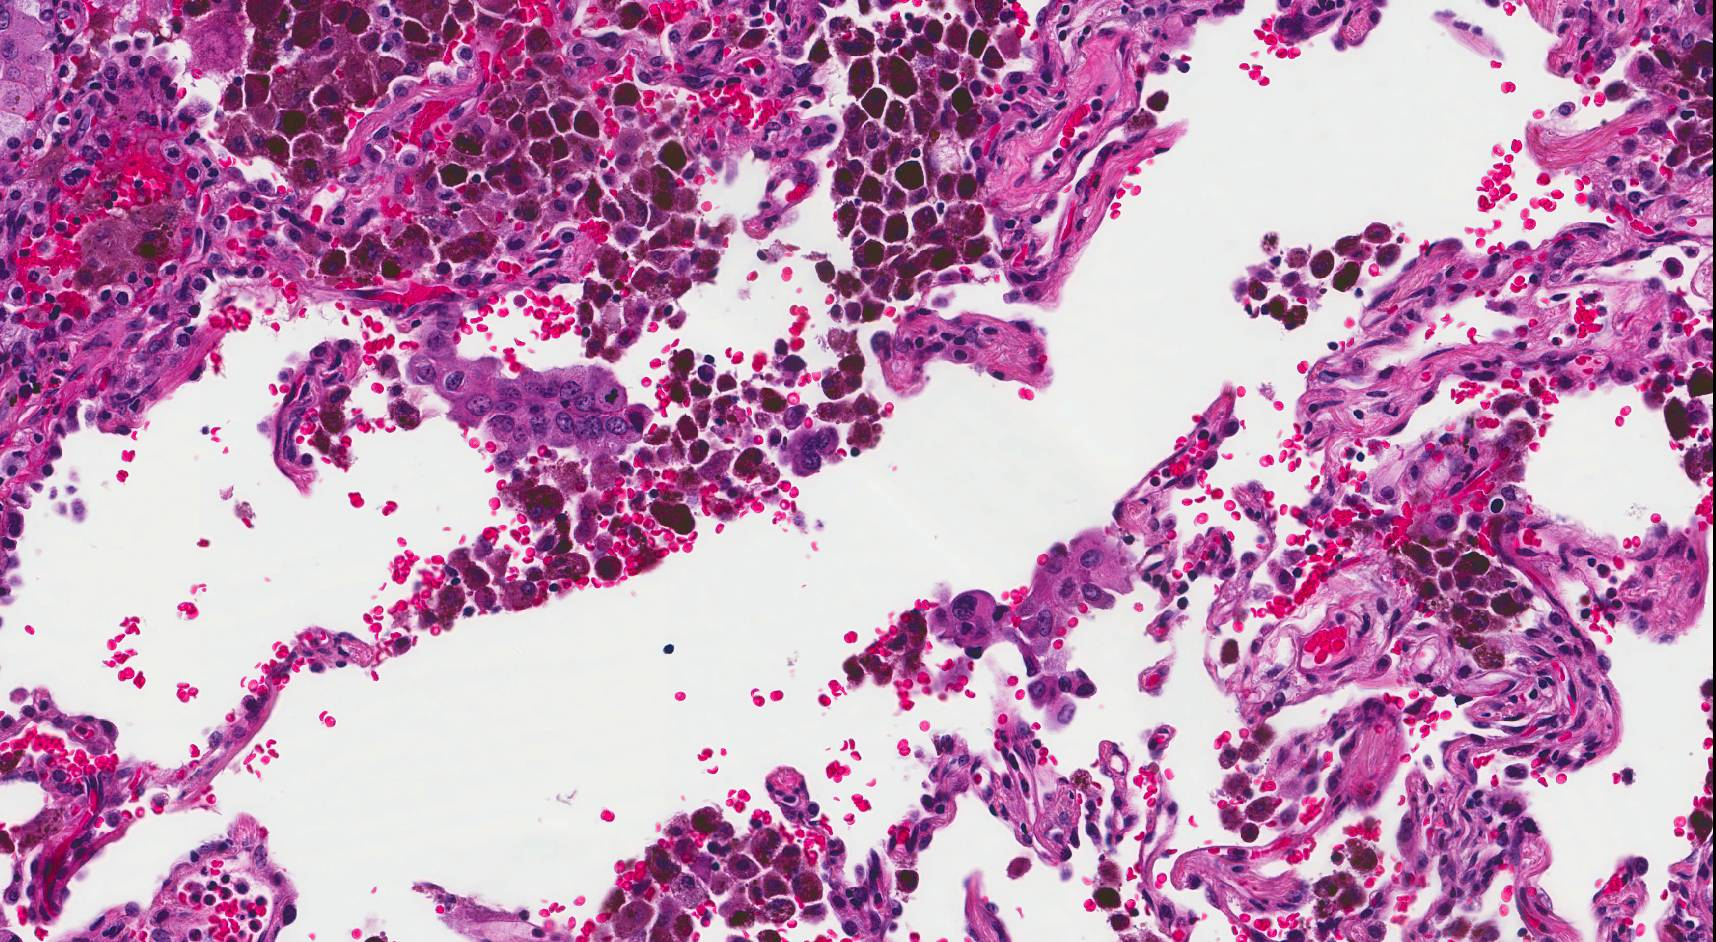stas: (922, 525, 1138, 711), (410, 326, 652, 473), (782, 426, 843, 478)
